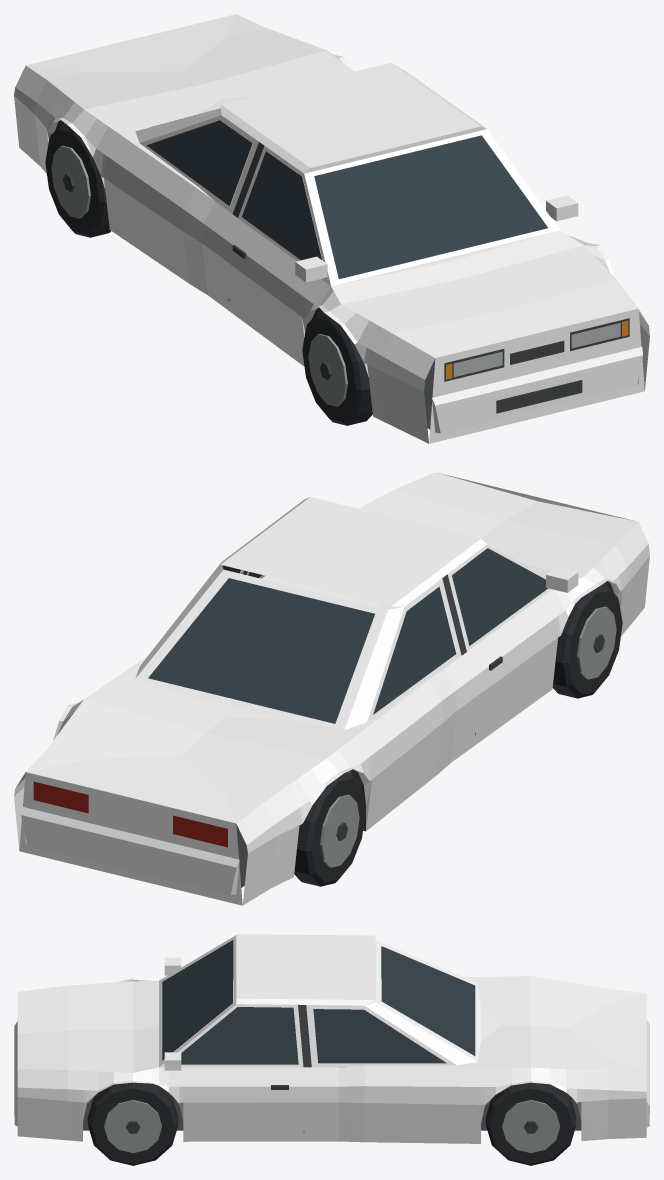
The model's file is calderwood_dunlin.glb.
The picture shows the model from 3 angles, top to bottom: view 1: azimuth 30°, elevation 25°; view 2: azimuth 150°, elevation 25°; view 3: azimuth 270°, elevation 25°; orthographic projection. The views are drawn at different scales.
Parts seen in each view (by area): view 1: calderwood_dunlin; view 2: calderwood_dunlin; view 3: calderwood_dunlin.
Part boxes in pixels (x1,y1,x2,y2): calderwood_dunlin: [14, 14, 649, 443]; calderwood_dunlin: [14, 472, 649, 905]; calderwood_dunlin: [14, 934, 649, 1165].
Bounding box in the file's own units: 1.79 × 1.2 × 4.6.
Materials: 8 (1 with a texture image).
